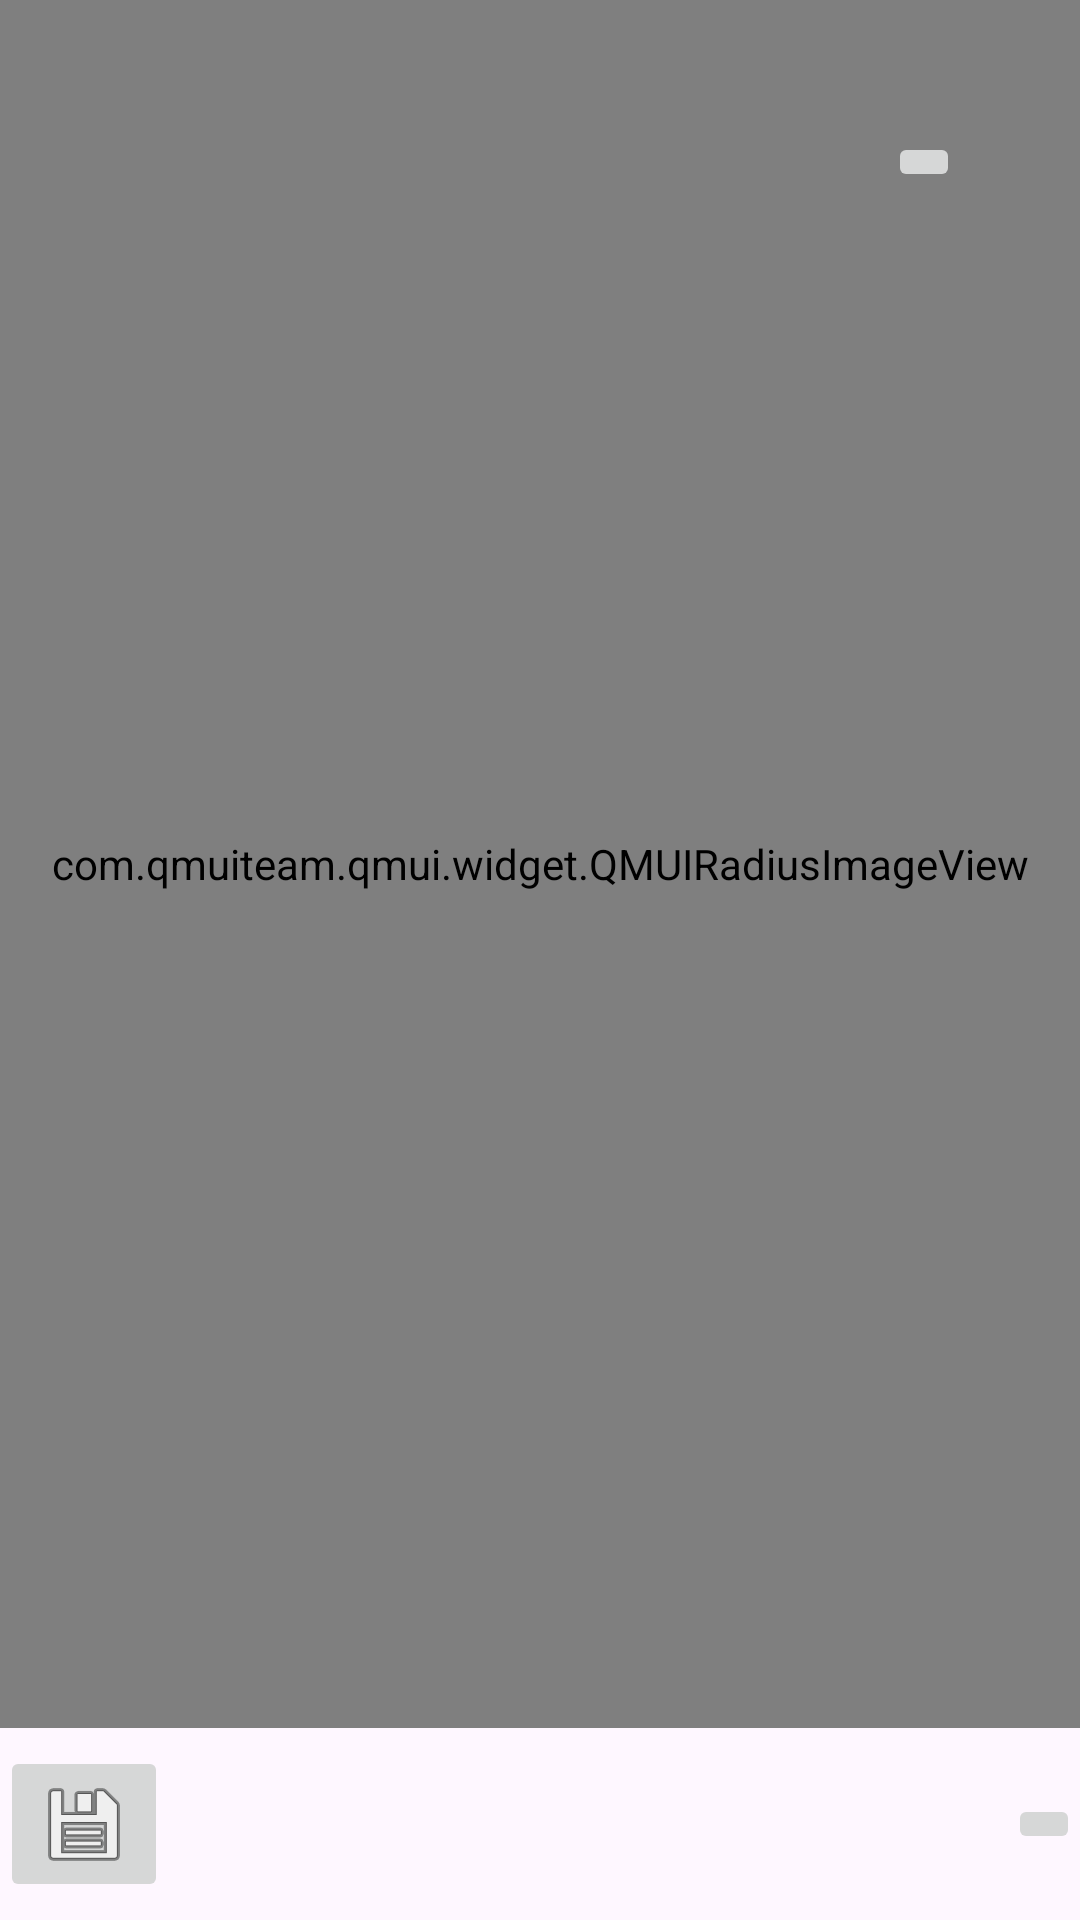

Locate icon controls on the screen. Image size 1080 × 1920, boxes as (x1, y1, x2, y2).
save: (12, 1764, 156, 1884)
